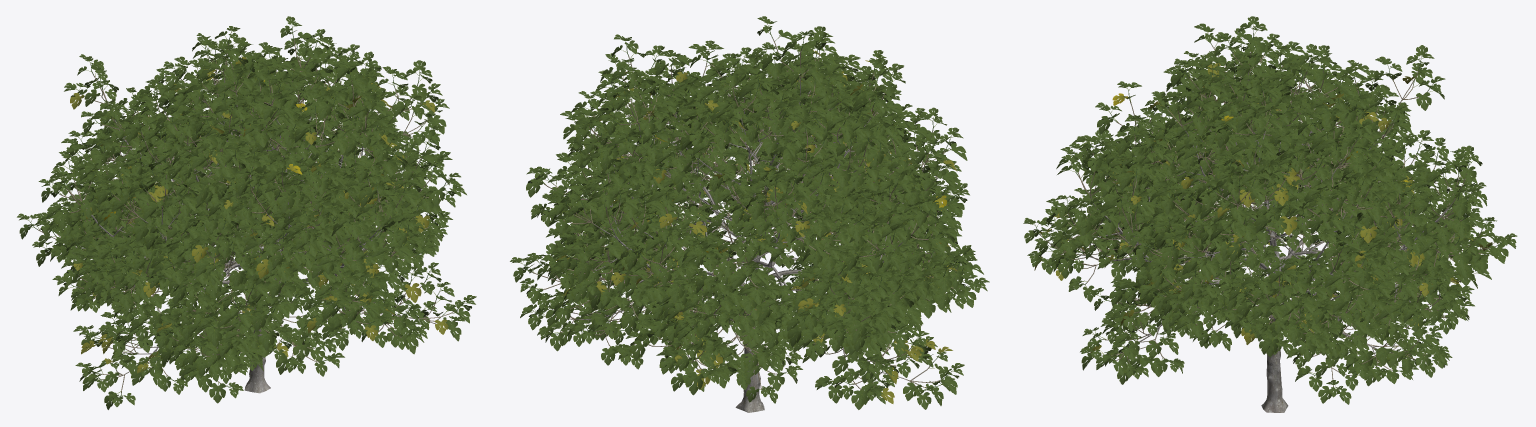
File: Ficus carica HD_Standard no fruit mat 75_LOD1.fbx
3 renders of one model, left to right at view 1: azimuth 30°, elevation 25°; view 2: azimuth 150°, elevation 25°; view 3: azimuth 270°, elevation 25°, orthographic. The views are drawn at different scales.
Visible parts, largest first — view 1: Ficus_carica_HD; view 2: Ficus_carica_HD; view 3: Ficus_carica_HD.
Part boxes in pixels (box(x1,y1,x2,y2)): Ficus_carica_HD: box(17, 16, 476, 409); Ficus_carica_HD: box(510, 16, 989, 412); Ficus_carica_HD: box(1023, 16, 1517, 412).
Size of the model in its own units: 4.92 by 4.21 by 5.2.
Materials: 10 (10 with a texture image).
